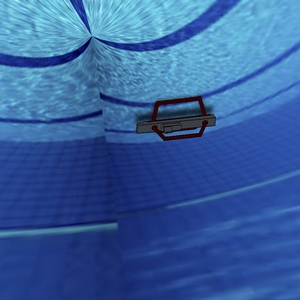submarine: (120, 81, 233, 155)
